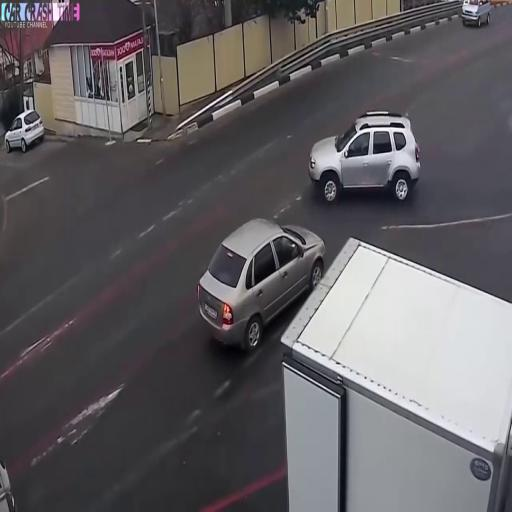小汽车: (201, 214, 324, 353), (308, 109, 421, 200), (0, 108, 49, 158), (458, 0, 493, 27)
